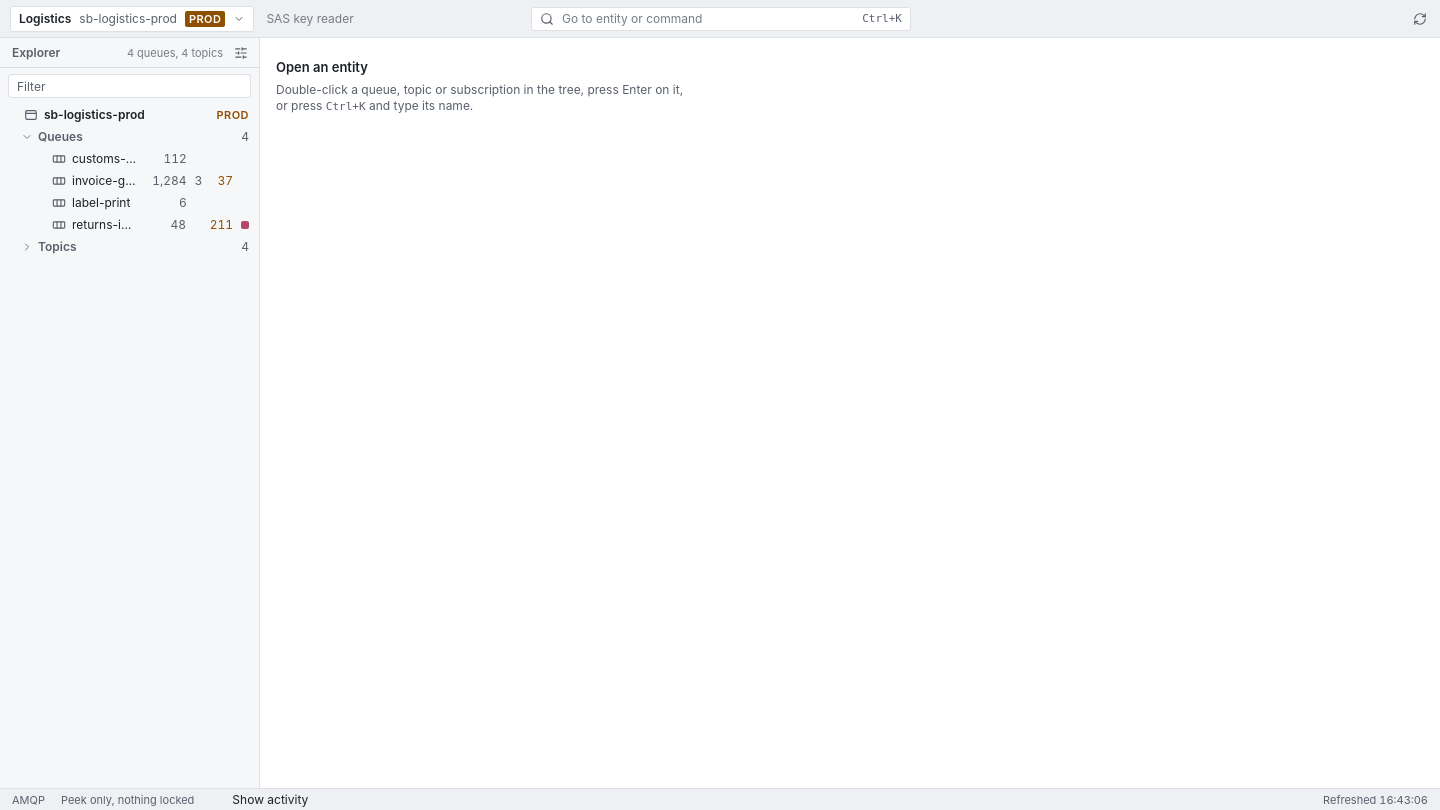
Test: NamespaceTree › shows the chosen counts and a highlight swatch from the connection's rules
Double-click the list item "label-print 6" at (119, 202), box x1=52 y1=195 x2=187 y2=210
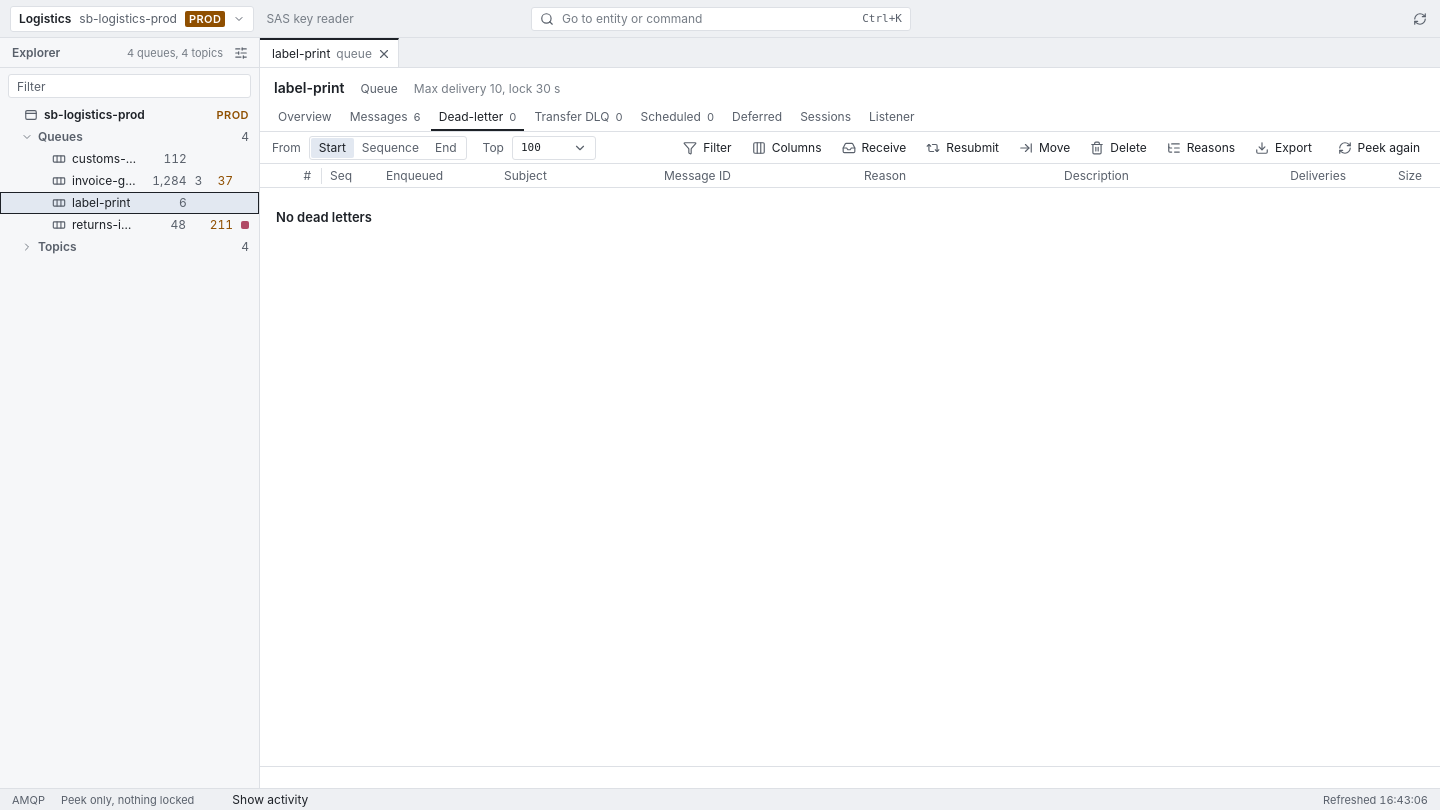
Now the tab "Dead-letter 0" is shown, box x1=431 y1=104 x2=524 y2=131
